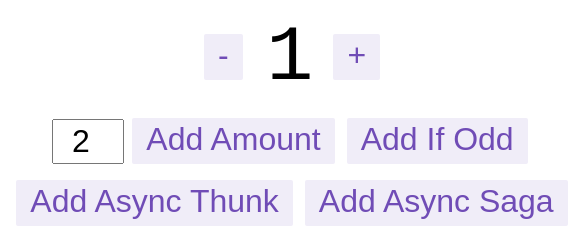
Test: Test <Counter> Sync Button › Increase Counter If Odd
Click the button with test id "incrementOdd" at (437, 141), box [347,118,528,164]
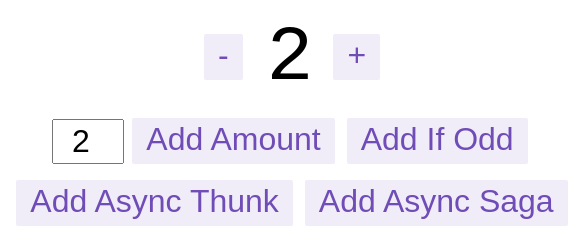
Expected: the text with test id "counterValue" reads "2", [267,14,313,102]
